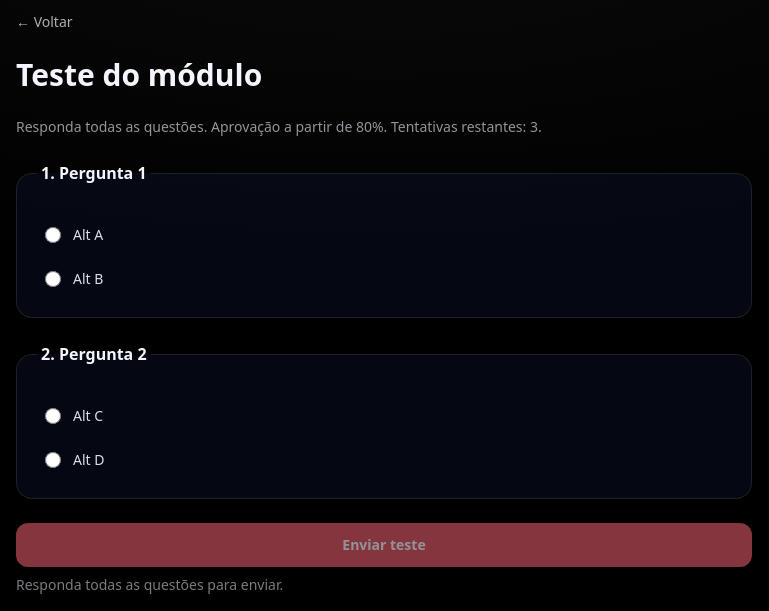
Scenario: QuizPage — motor do teste › renderiza as questões e habilita o envio só após responder todas
Expected: the text "1. Pergunta 1" is shown, [37, 161, 151, 185]
Expected: the text "2. Pergunta 2" is shown, [37, 342, 151, 366]
Click the radio button labelled "Alt A" at point(53, 235), box [45, 227, 61, 243]
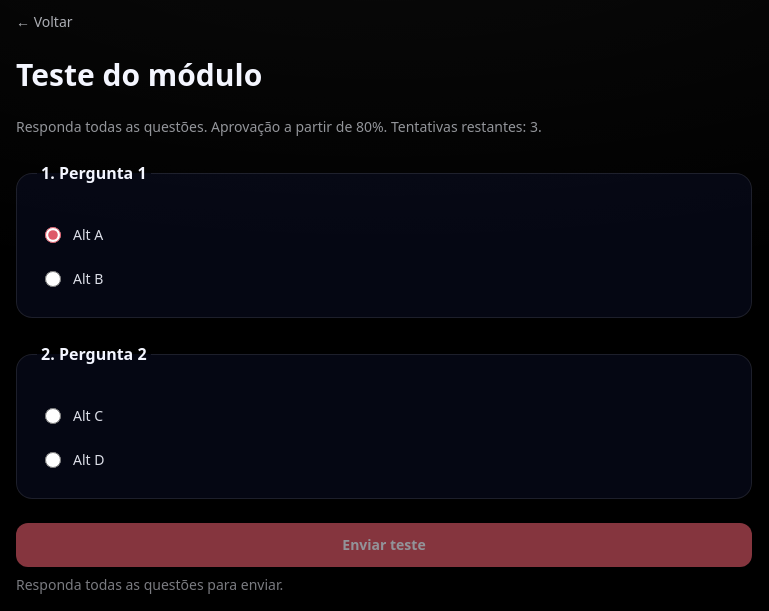
Expected: the button "Enviar teste" is disabled, [16, 523, 752, 567]
Click the radio button labelled "Alt C" at point(53, 416), box [45, 408, 61, 424]
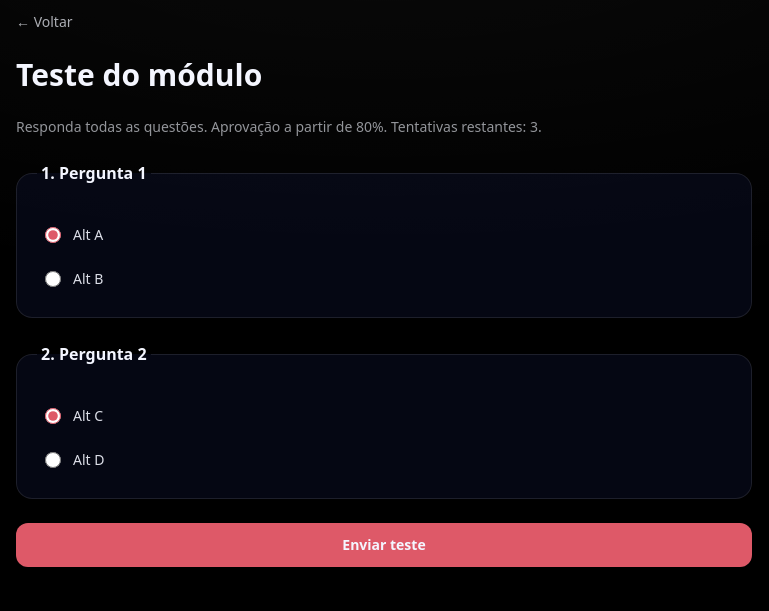
Expected: the button "Enviar teste" is enabled, [16, 523, 752, 567]
